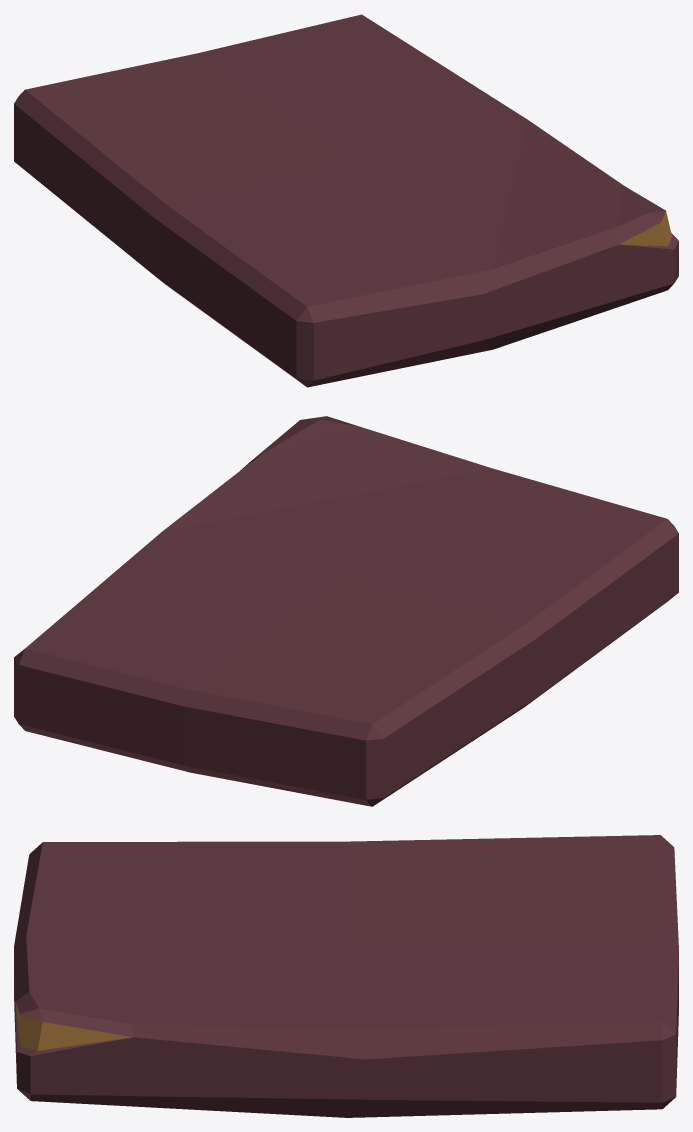
Rendered from mattress-large-apocalypse-a.fbx.
The picture shows the model from 3 angles, top to bottom: view 1: azimuth 30°, elevation 25°; view 2: azimuth 150°, elevation 25°; view 3: azimuth 270°, elevation 25°; orthographic projection. The views are drawn at different scales.
Parts seen in each view (by area): view 1: mattress-large-apocalypse-a; view 2: mattress-large-apocalypse-a; view 3: mattress-large-apocalypse-a.
Boxes of the visible parts, x1=… form: mattress-large-apocalypse-a: x1=14, y1=14, x2=678, y2=387; mattress-large-apocalypse-a: x1=14, y1=416, x2=678, y2=806; mattress-large-apocalypse-a: x1=14, y1=835, x2=678, y2=1117.
Bounding box in the file's own units: 1.42 × 0.3337 × 2.
